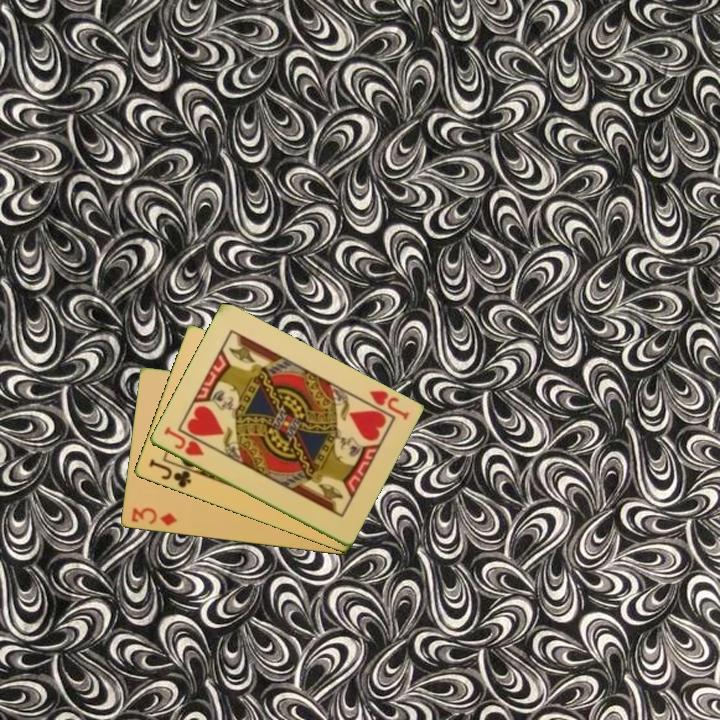3d: (128, 504, 179, 529)
Jc: (145, 455, 194, 491)
Jh: (160, 423, 207, 459), (365, 387, 412, 423)
